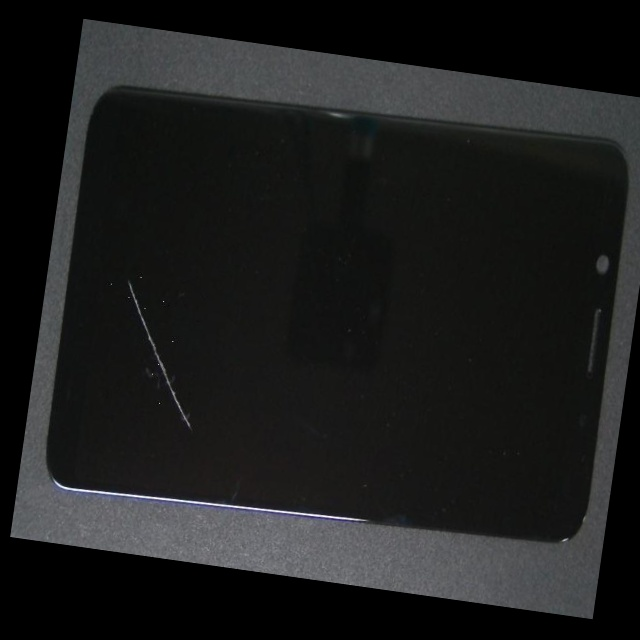scratch: (14, 117, 218, 533)
